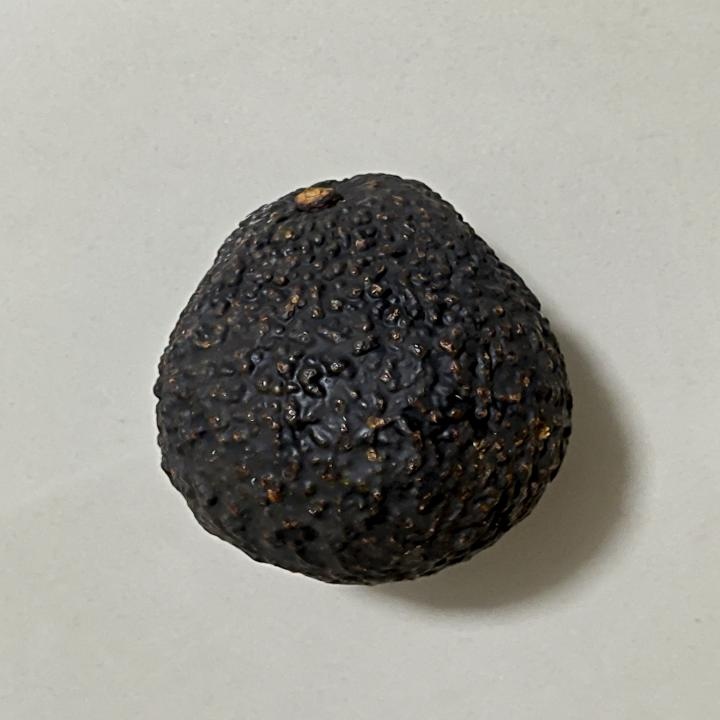Level2: (150, 165, 579, 596)
